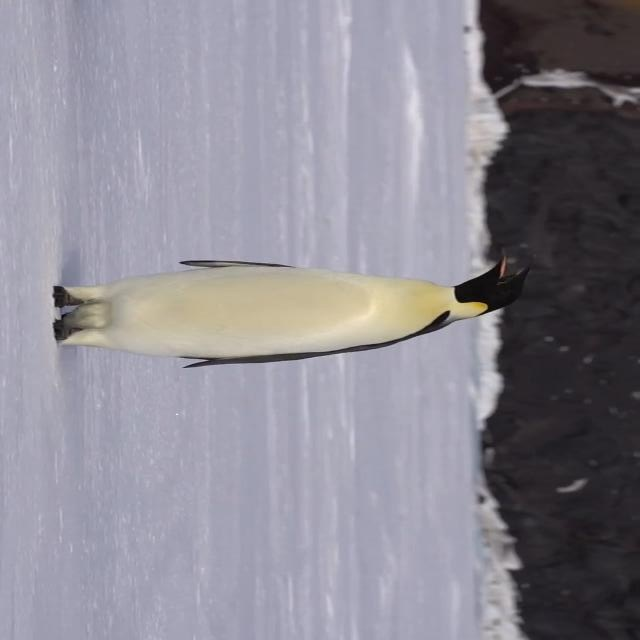penguin: (51, 250, 531, 369)
